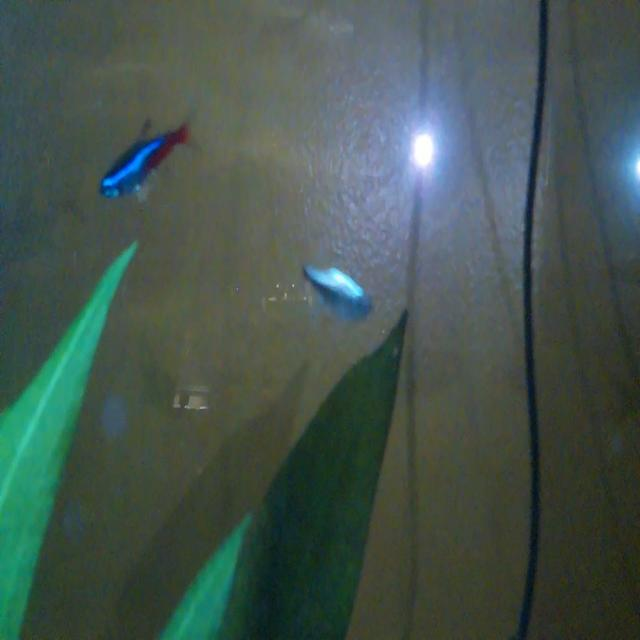fish: (90, 120, 199, 208), (293, 246, 378, 328)
